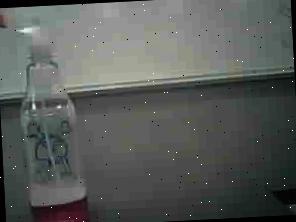hazard: (0, 3, 98, 222)
